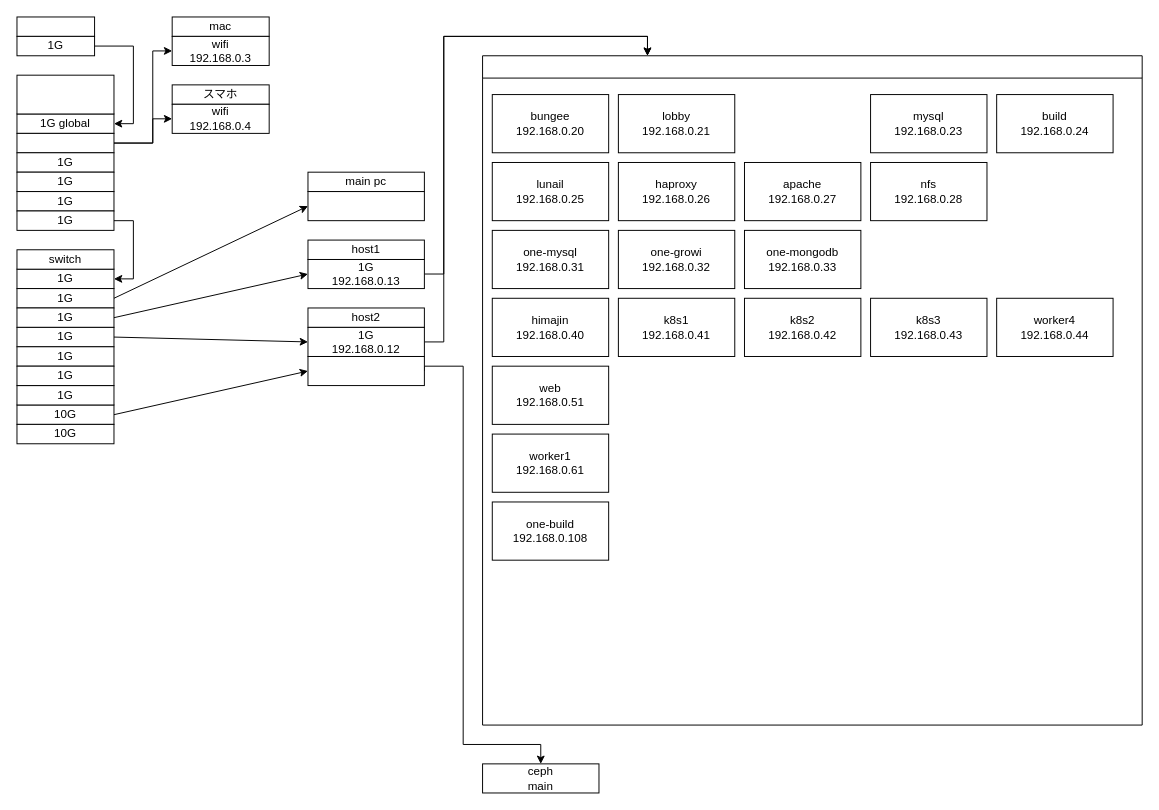
This 1159x810 diagram has some shape labels left out. Here are the shapes that lost their labels. From the top down, the box of each, then its label:
(16, 16, 95, 36): softbank光
(16, 74, 114, 114): routor 192.168.0.1
(16, 132, 114, 153): wifi
(307, 191, 424, 221): 2.5G 192.168.0.2
(307, 356, 424, 386): 10G 192.168.0.22
(482, 55, 1142, 725): proxmox bridge
